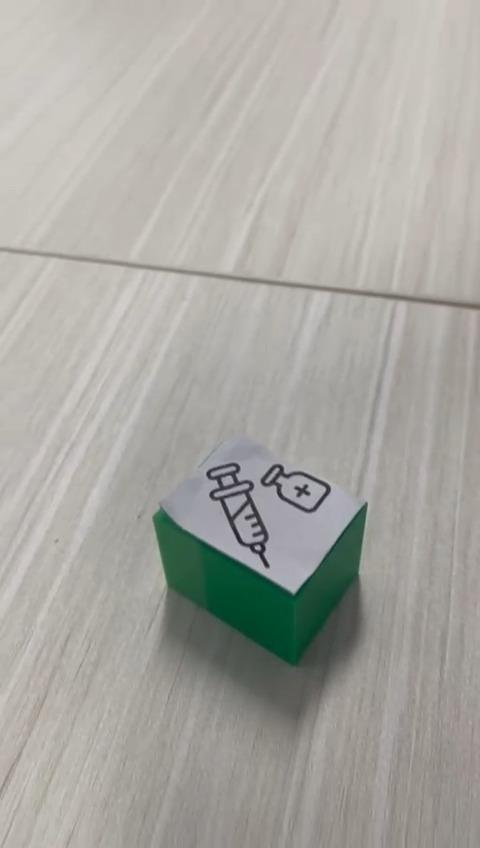antiseptic cream: (151, 434, 369, 666)
